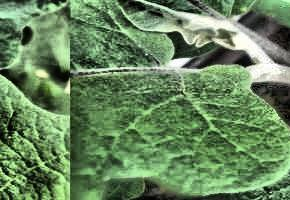HEALTHY: (0, 1, 290, 200)
